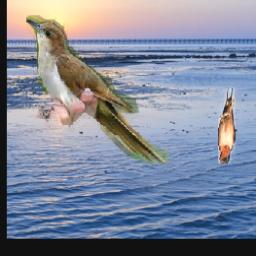Cuckoo: (25, 15, 168, 164)
Swallow: (218, 88, 236, 164)
